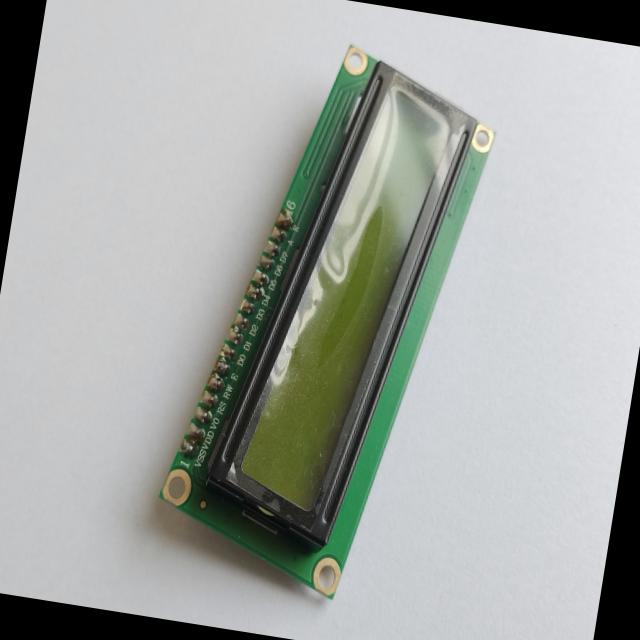lcd: (135, 11, 524, 633)
